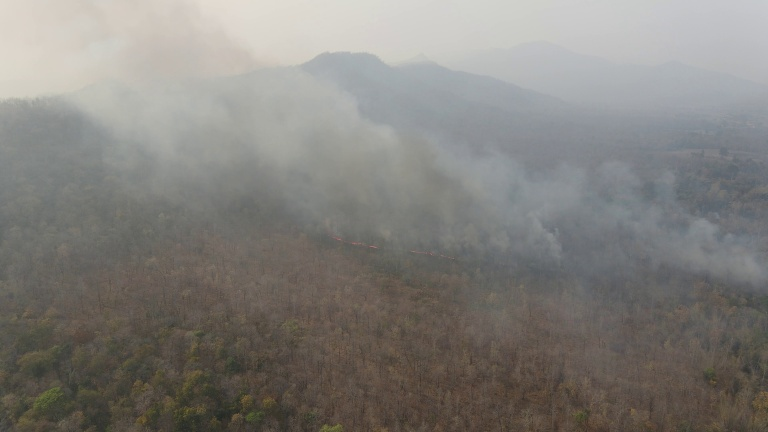fire: (410, 245, 456, 260), (345, 239, 378, 253)
smoke: (38, 2, 570, 249), (419, 149, 766, 275)
